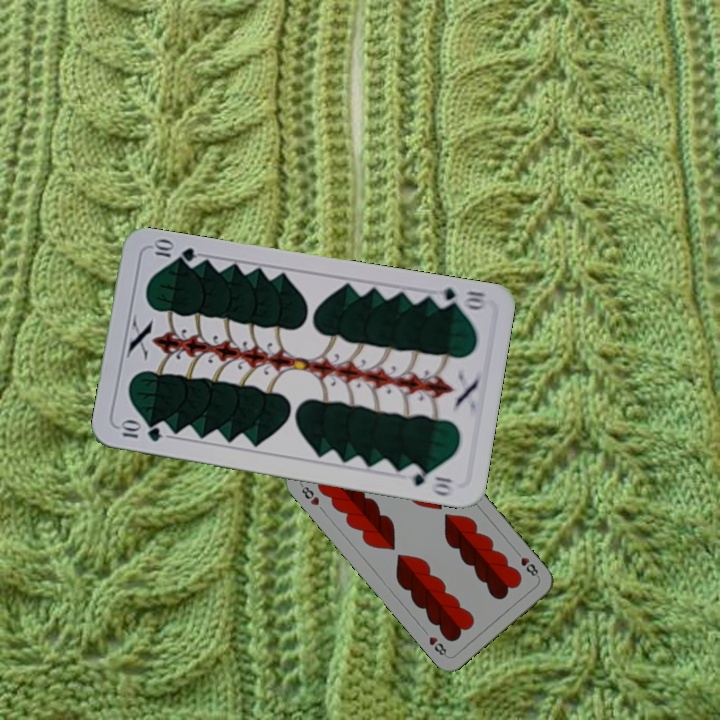G10: (429, 283, 490, 313), (115, 418, 164, 444)
H8: (511, 546, 542, 580), (297, 481, 322, 508)
